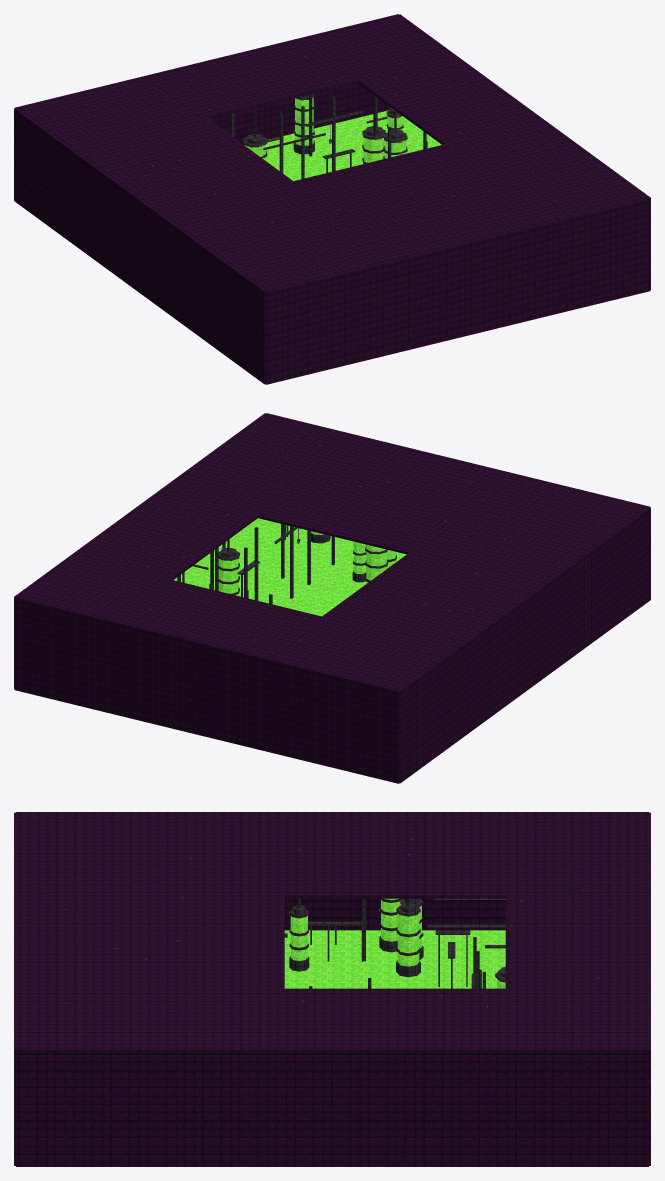
File: background_mobile.glb
3 renders of one model, top to bottom at view 1: azimuth 30°, elevation 25°; view 2: azimuth 150°, elevation 25°; view 3: azimuth 270°, elevation 25°, orthographic. The views are drawn at different scales.
Visible parts, largest first — view 1: BG_Factory_Shell, BG_Factory_Glass, BG_Factory_Hull; view 2: BG_Factory_Shell, BG_Factory_Glass, BG_Factory_Hull; view 3: BG_Factory_Shell, BG_Factory_Glass, BG_Factory_Hull.
Boxes of the visible parts, left/top/right/bottom form: BG_Factory_Shell: left=14, top=14, right=650, bottom=384; BG_Factory_Glass: left=244, top=98, right=441, bottom=384; BG_Factory_Hull: left=144, top=56, right=557, bottom=238; BG_Factory_Shell: left=14, top=413, right=650, bottom=783; BG_Factory_Glass: left=174, top=518, right=406, bottom=783; BG_Factory_Hull: left=146, top=445, right=505, bottom=640; BG_Factory_Shell: left=14, top=812, right=650, bottom=1166; BG_Factory_Glass: left=284, top=898, right=505, bottom=988; BG_Factory_Hull: left=64, top=829, right=610, bottom=1007.
Bounding box in the file's own units: 306 × 71 × 346.
4 materials, 4 textured.
